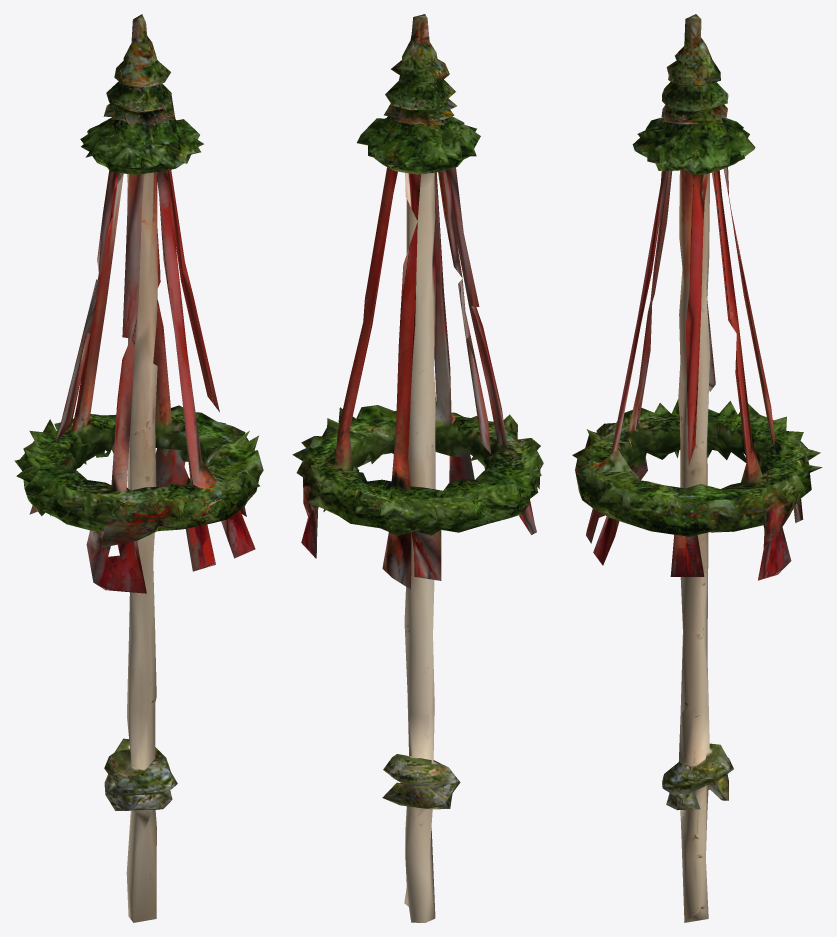
The model's file is maypole_tripo.glb.
3 renders of one model, left to right at view 1: azimuth 30°, elevation 25°; view 2: azimuth 150°, elevation 25°; view 3: azimuth 270°, elevation 25°, orthographic.
Parts seen in each view (by area): view 1: tripo_node_202c669d-bec6-4c79-a4ff-9a4ec730110b; view 2: tripo_node_202c669d-bec6-4c79-a4ff-9a4ec730110b; view 3: tripo_node_202c669d-bec6-4c79-a4ff-9a4ec730110b.
Part boxes in pixels (box(x1,y1,x2,y2)): tripo_node_202c669d-bec6-4c79-a4ff-9a4ec730110b: box(14, 14, 263, 922); tripo_node_202c669d-bec6-4c79-a4ff-9a4ec730110b: box(292, 14, 543, 922); tripo_node_202c669d-bec6-4c79-a4ff-9a4ec730110b: box(572, 14, 822, 922).
Size of the model in its own units: 0.2561 by 1 by 0.2524.
1 material, 1 textured.
